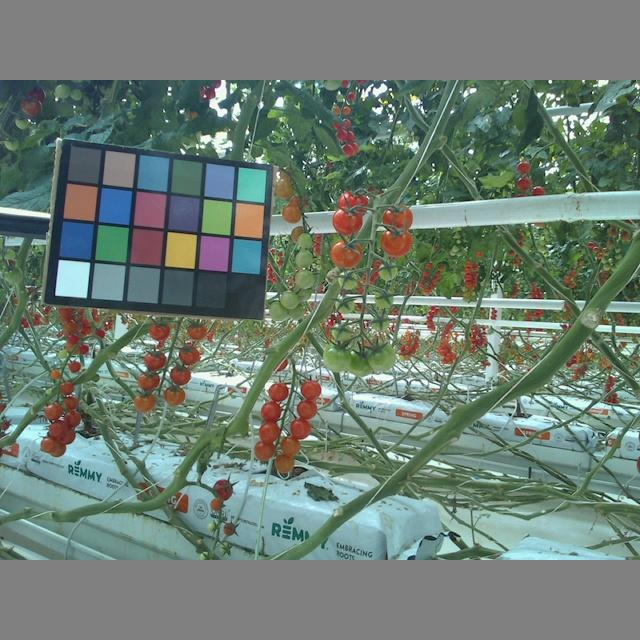green: (367, 339, 397, 372), (323, 340, 353, 371), (349, 346, 373, 378), (267, 298, 292, 322), (277, 287, 301, 309), (377, 257, 397, 283), (331, 320, 352, 343), (294, 268, 318, 288), (335, 294, 356, 315), (294, 248, 315, 269), (336, 272, 358, 292), (370, 312, 390, 332), (373, 289, 394, 308), (294, 230, 313, 247)
pink: (380, 203, 413, 238), (329, 239, 361, 271), (330, 207, 363, 238), (381, 230, 415, 258), (338, 190, 367, 220), (132, 390, 160, 411), (297, 377, 322, 400), (258, 420, 282, 443), (280, 433, 303, 457), (282, 201, 304, 225), (142, 350, 167, 371), (40, 438, 67, 457), (259, 400, 281, 423), (148, 320, 171, 342), (252, 440, 276, 461), (289, 418, 311, 440), (179, 343, 201, 365), (273, 451, 294, 474), (168, 364, 191, 385), (294, 399, 318, 418), (163, 387, 188, 405), (138, 371, 159, 392), (268, 383, 288, 404), (184, 323, 208, 340), (275, 179, 294, 199), (48, 422, 67, 440), (45, 403, 63, 419), (64, 412, 81, 427), (63, 429, 77, 444), (61, 397, 79, 408), (58, 383, 75, 394)
